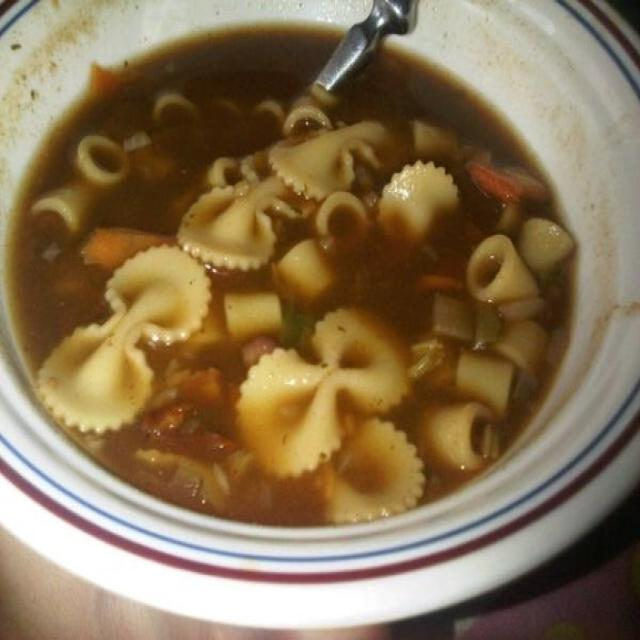汤锅炖物: (6, 5, 611, 634)
